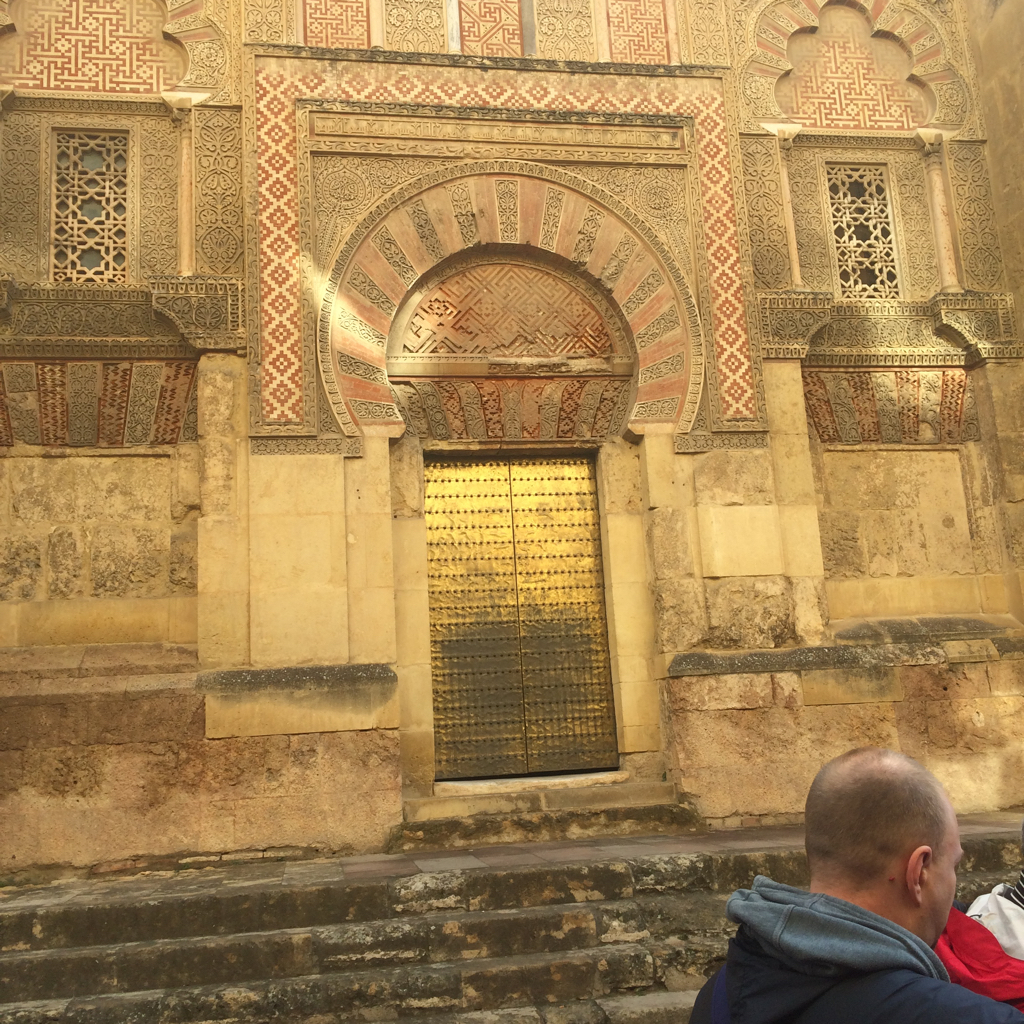arco-herradura: (349, 223, 657, 458)
arco-lobulado: (758, 1, 948, 152)
dintel-adovelado: (385, 370, 631, 450), (1, 350, 194, 451), (802, 353, 976, 442)
